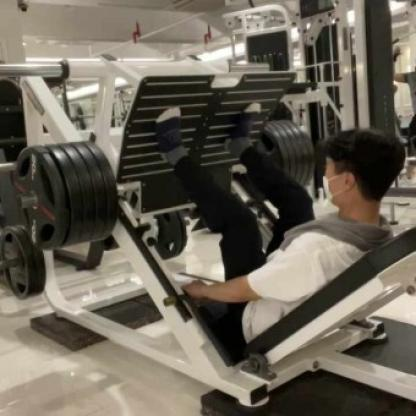leg press: (0, 42, 416, 416)
